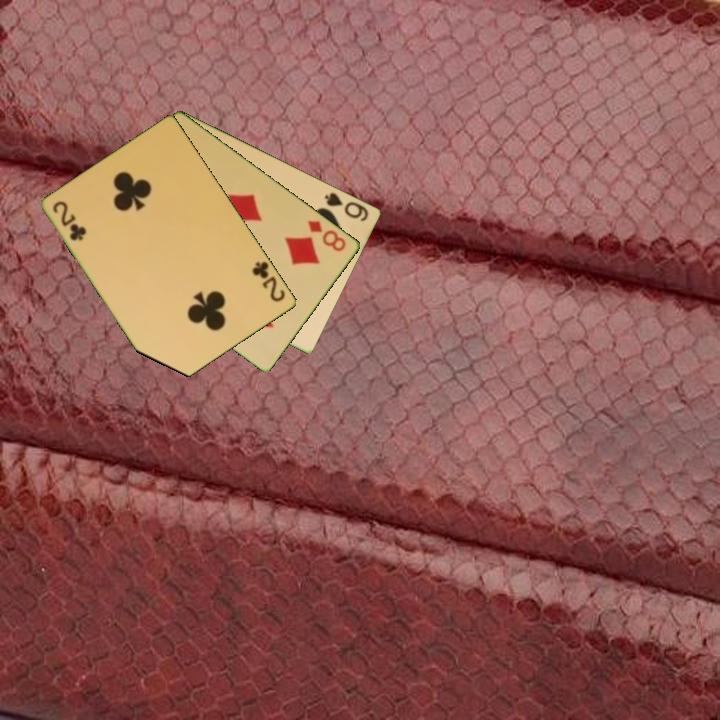2c: (249, 258, 289, 305), (49, 197, 89, 244)
6s: (322, 189, 372, 224)
8d: (304, 217, 349, 254)
